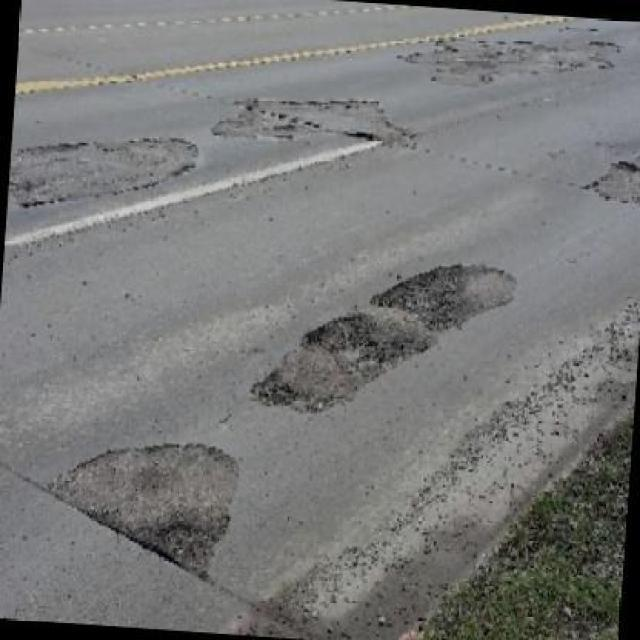Pothole: (50, 444, 238, 576), (251, 308, 432, 412), (371, 265, 516, 330)
